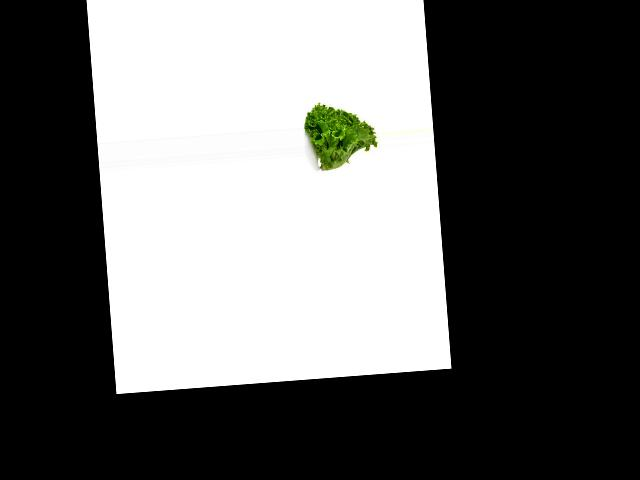lettuce: (302, 95, 381, 176)
